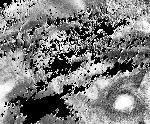CE: (100, 80, 142, 119)
